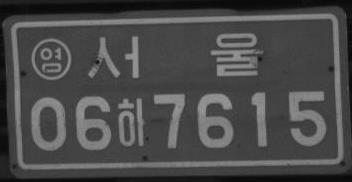0: (29, 96, 67, 152)
1: (242, 90, 281, 146)
5: (286, 89, 327, 148)
6: (195, 91, 234, 150), (73, 94, 112, 152)
7: (152, 91, 186, 149)
서울_D: (86, 31, 263, 79)
영: (30, 37, 71, 81)
하: (116, 97, 146, 147)
